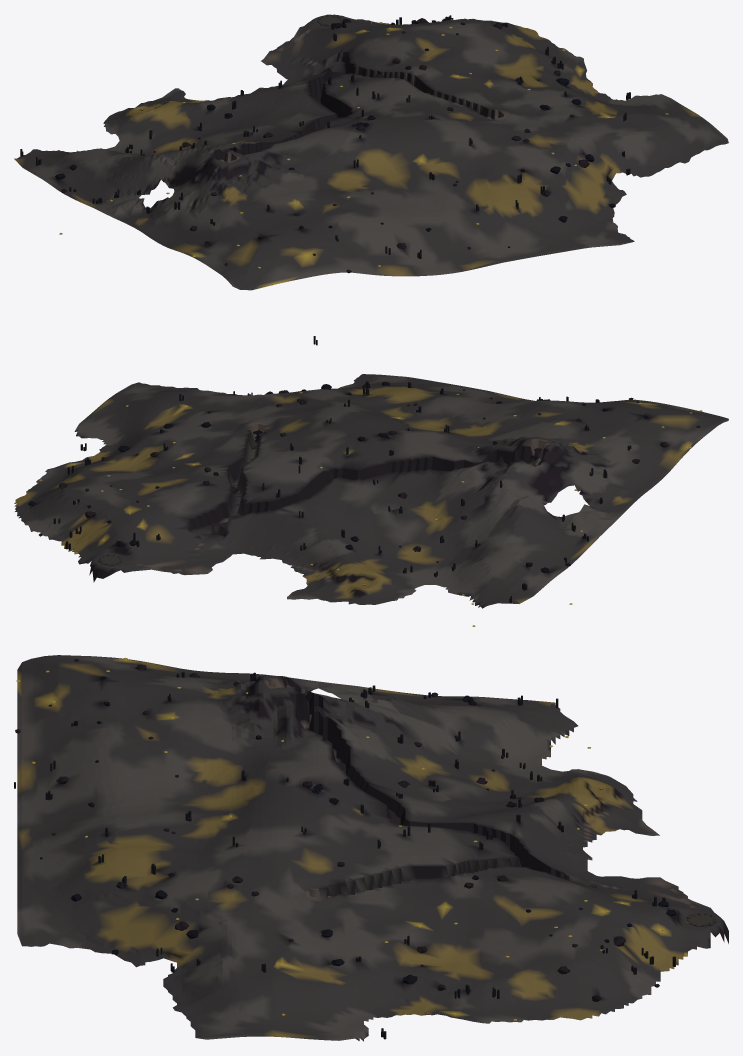
File: ash_isl_vent_lod1.glb
3 views of the same model, one above another, from view 1: azimuth 30°, elevation 25°; view 2: azimuth 150°, elevation 25°; view 3: azimuth 270°, elevation 25° (orthographic). The views are drawn at different scales.
Visible parts, largest first — view 1: geometry_0; view 2: geometry_0; view 3: geometry_0.
Part boxes in pixels (bbox=[...]): geometry_0: bbox=[14, 14, 728, 345]; geometry_0: bbox=[14, 374, 728, 626]; geometry_0: bbox=[14, 655, 728, 1041].
Size of the model in its own units: 341 by 57.39 by 314.
